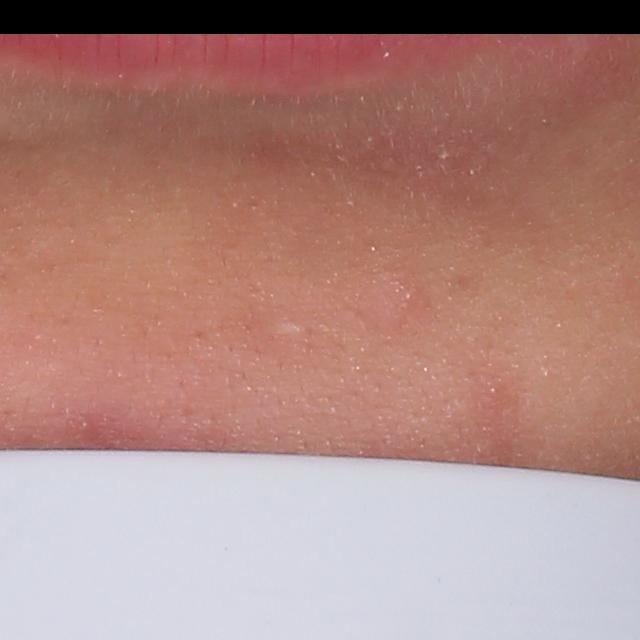hypertrophic_scar: (267, 319, 310, 342)
